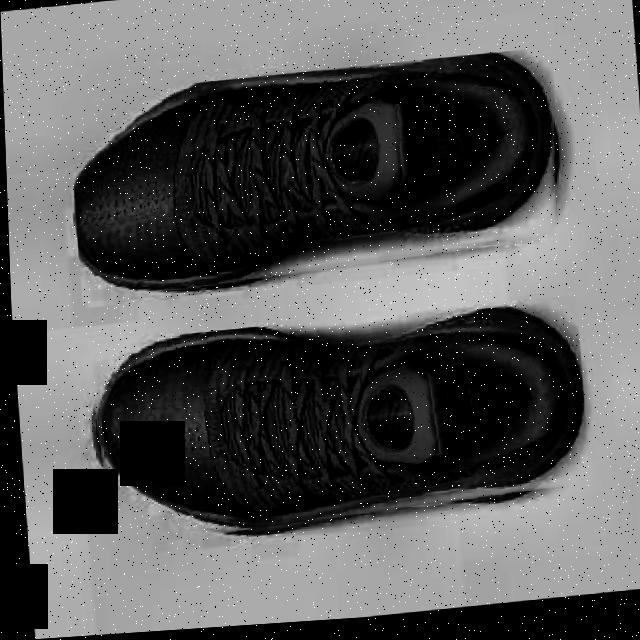shoe: (65, 54, 567, 305), (82, 302, 587, 551)
